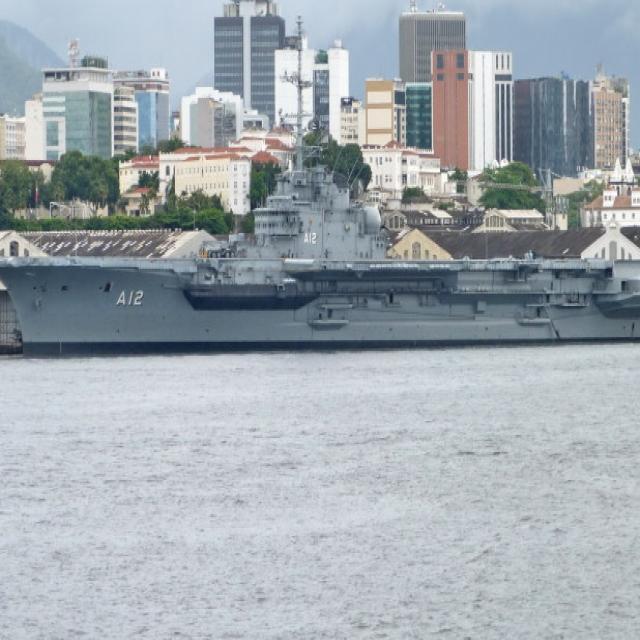Portanaves: (1, 98, 640, 365)
